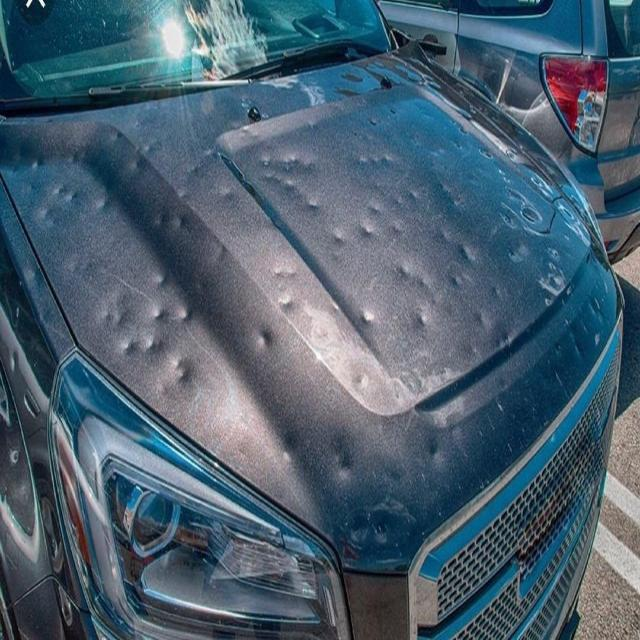dent: (258, 150, 324, 199), (496, 166, 544, 228), (342, 507, 396, 552), (331, 434, 355, 481), (129, 140, 158, 176), (171, 352, 197, 392), (277, 431, 302, 472), (101, 300, 133, 332), (254, 322, 279, 356), (393, 256, 416, 290), (310, 320, 336, 350), (140, 332, 166, 361), (327, 223, 350, 254), (356, 150, 395, 168), (349, 367, 372, 397), (424, 434, 443, 470), (508, 236, 531, 264), (498, 205, 520, 234), (54, 182, 82, 204), (272, 262, 300, 284), (357, 300, 377, 330), (278, 286, 299, 314), (95, 192, 117, 217), (149, 304, 170, 330), (410, 308, 431, 334), (495, 327, 515, 353), (494, 376, 517, 398), (357, 218, 378, 242), (435, 224, 454, 250), (38, 202, 57, 227), (457, 241, 476, 266), (152, 270, 173, 292), (529, 174, 551, 195), (120, 336, 140, 358), (215, 233, 232, 258), (304, 194, 324, 215), (389, 218, 408, 240), (473, 306, 489, 332), (154, 205, 172, 228), (175, 306, 195, 326), (219, 184, 238, 204), (367, 199, 386, 219), (449, 272, 466, 294), (174, 209, 190, 232), (488, 280, 503, 300), (340, 72, 365, 84), (112, 126, 126, 146), (560, 205, 576, 222), (456, 108, 475, 122), (417, 272, 429, 294), (406, 188, 421, 205), (32, 156, 49, 170), (478, 148, 494, 162), (506, 150, 520, 164), (393, 195, 406, 209), (458, 124, 471, 136)
